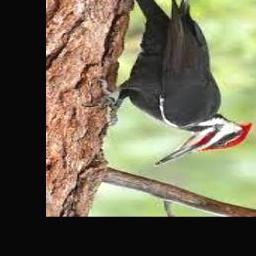Woodpecker: (89, 0, 253, 166)
